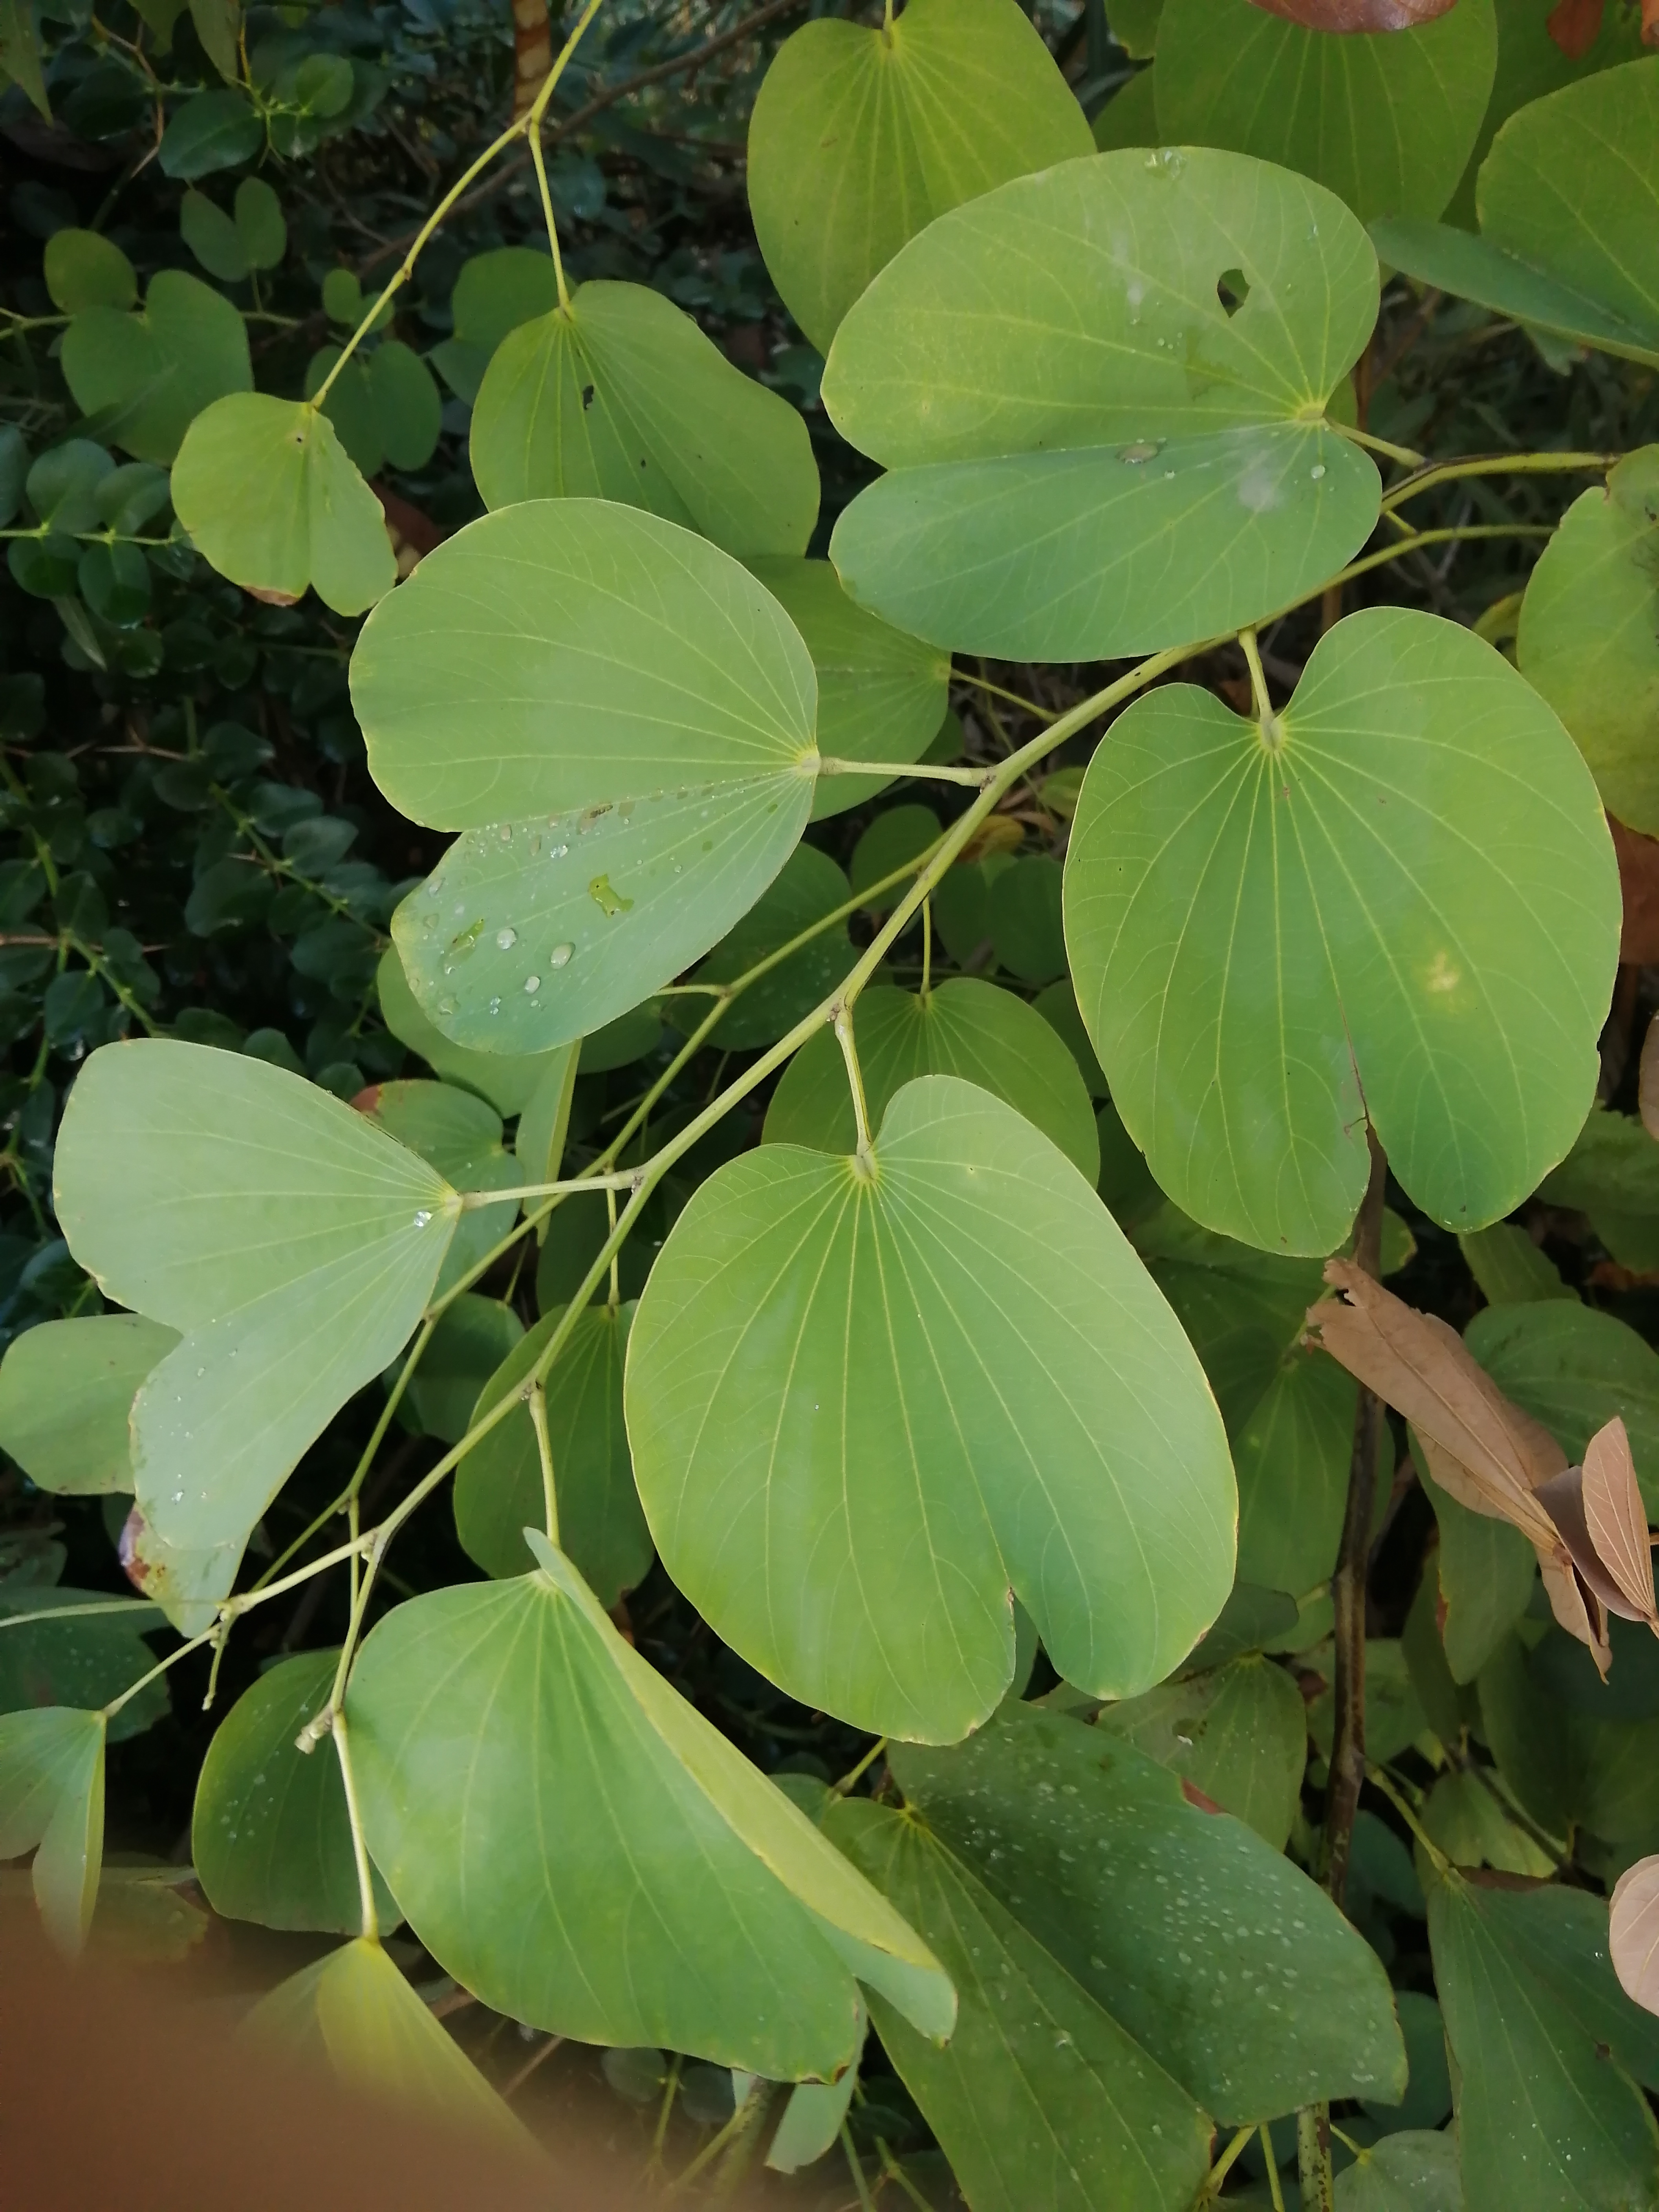healthy: (636, 1028, 1260, 1723), (720, 1754, 1450, 2200), (1105, 641, 1584, 1310), (56, 1010, 540, 1615), (354, 502, 803, 1038), (179, 385, 415, 655), (23, 268, 246, 470)
nothealthy: (789, 158, 1436, 685)
